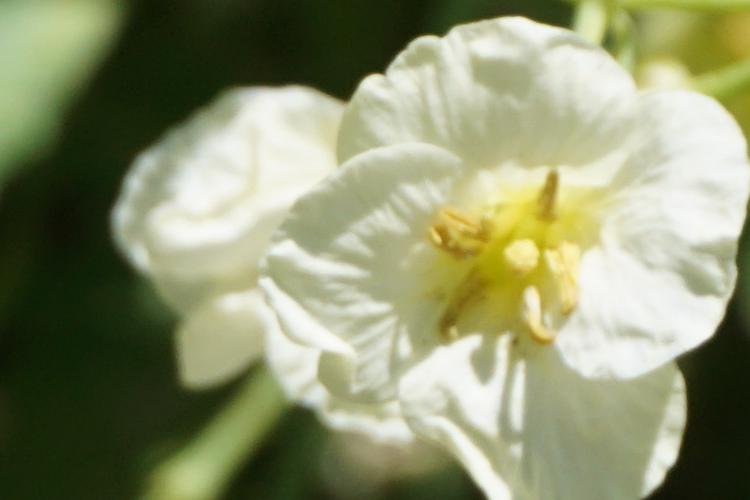white: (153, 61, 711, 450)
